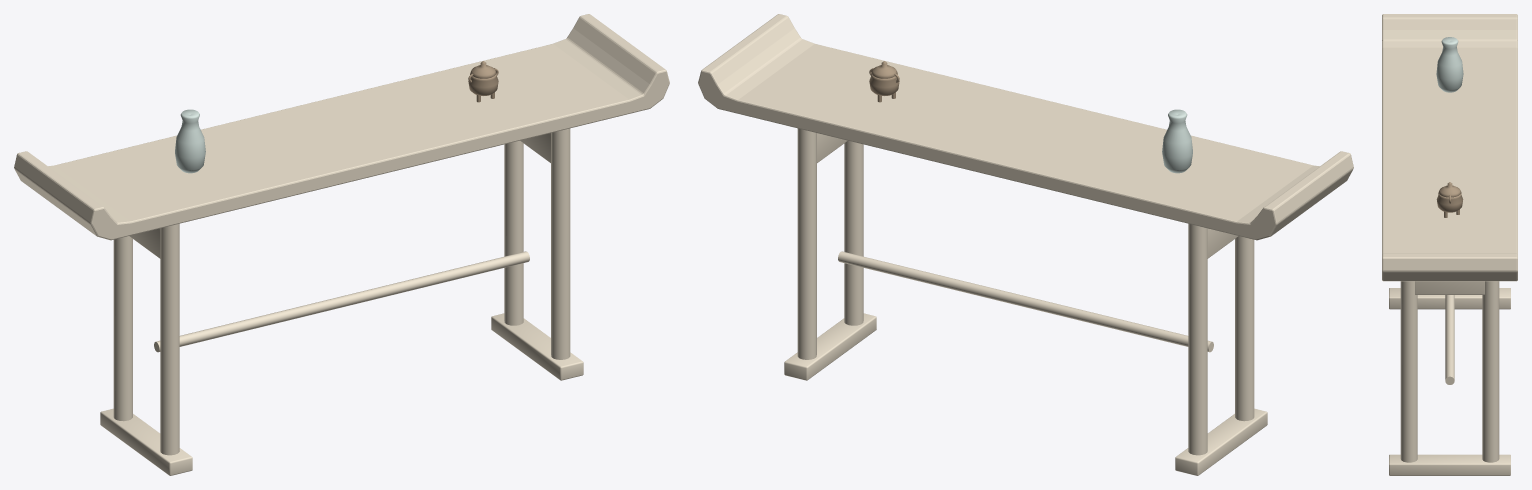
File: sg_console.glb
3 views of the same model, side by side, from view 1: azimuth 30°, elevation 25°; view 2: azimuth 150°, elevation 25°; view 3: azimuth 270°, elevation 25° (orthographic). The views are drawn at different scales.
Parts seen in each view (by area): view 1: top, trestle1_post0, trestle0_post0, stretcher, trestle0_post1, trestle1_post1, trestle1_rail, trestle0_rail, vase; view 2: top, trestle1_post1, trestle0_post1, stretcher, trestle0_post0, trestle1_post0, trestle1_rail, trestle0_rail, vase; view 3: top, trestle1_post0, trestle1_post1, trestle1_rail, trestle0_rail, vase, trestle1_board, stretcher, burner_body, burner_lid.
Boxes of the visible parts, box(x1,y1,x2,y2) form: top: box(14, 14, 669, 240); trestle1_post0: box(551, 128, 570, 359); trestle0_post0: box(160, 223, 179, 455); stretcher: box(154, 251, 529, 352); trestle0_post1: box(113, 236, 132, 421); trestle1_post1: box(504, 140, 523, 325); trestle1_rail: box(491, 313, 583, 380); trestle0_rail: box(100, 408, 192, 475); vase: box(175, 109, 205, 173); top: box(698, 14, 1353, 240); trestle1_post1: box(797, 128, 816, 359); trestle0_post1: box(1188, 223, 1207, 455); stretcher: box(838, 251, 1213, 352); trestle0_post0: box(1235, 236, 1254, 421); trestle1_post0: box(844, 140, 863, 325); trestle1_rail: box(784, 313, 876, 380); trestle0_rail: box(1175, 408, 1267, 475); vase: box(1162, 109, 1192, 173); top: box(1382, 14, 1517, 281); trestle1_post0: box(1400, 281, 1417, 462); trestle1_post1: box(1482, 281, 1499, 462); trestle1_rail: box(1389, 454, 1510, 475); trestle0_rail: box(1389, 288, 1510, 309); vase: box(1436, 37, 1463, 92); trestle1_board: box(1415, 281, 1484, 294); stretcher: box(1445, 295, 1454, 384); burner_body: box(1436, 193, 1463, 212); burner_lid: box(1438, 182, 1461, 197).
Size of the model in its own units: 1.72 by 0.92 by 0.4.
